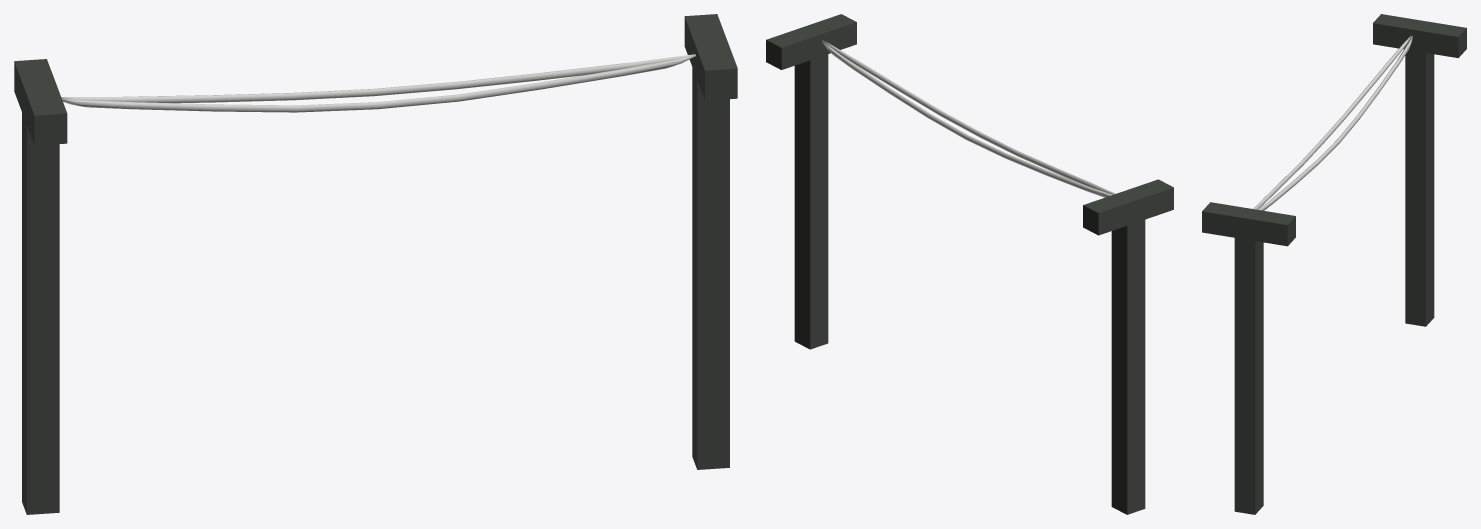
Rendered from Estendal 2.FBX.
3 renders of one model, left to right at view 1: azimuth 30°, elevation 25°; view 2: azimuth 150°, elevation 25°; view 3: azimuth 270°, elevation 25°, orthographic. The views are drawn at different scales.
Parts seen in each view (by area): view 1: Box026; view 2: Box026; view 3: Box026.
Boxes of the visible parts, x1,y1,x2,y2 form: Box026: [14, 14, 737, 514]; Box026: [766, 14, 1173, 514]; Box026: [1202, 14, 1466, 514].
Bounding box in the file's own units: 75.62 × 49.25 × 40.07.
